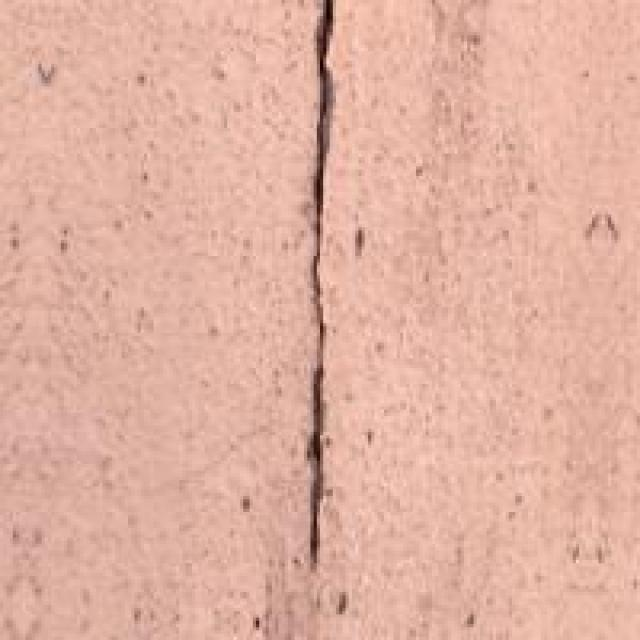Crack: (253, 0, 445, 589)
